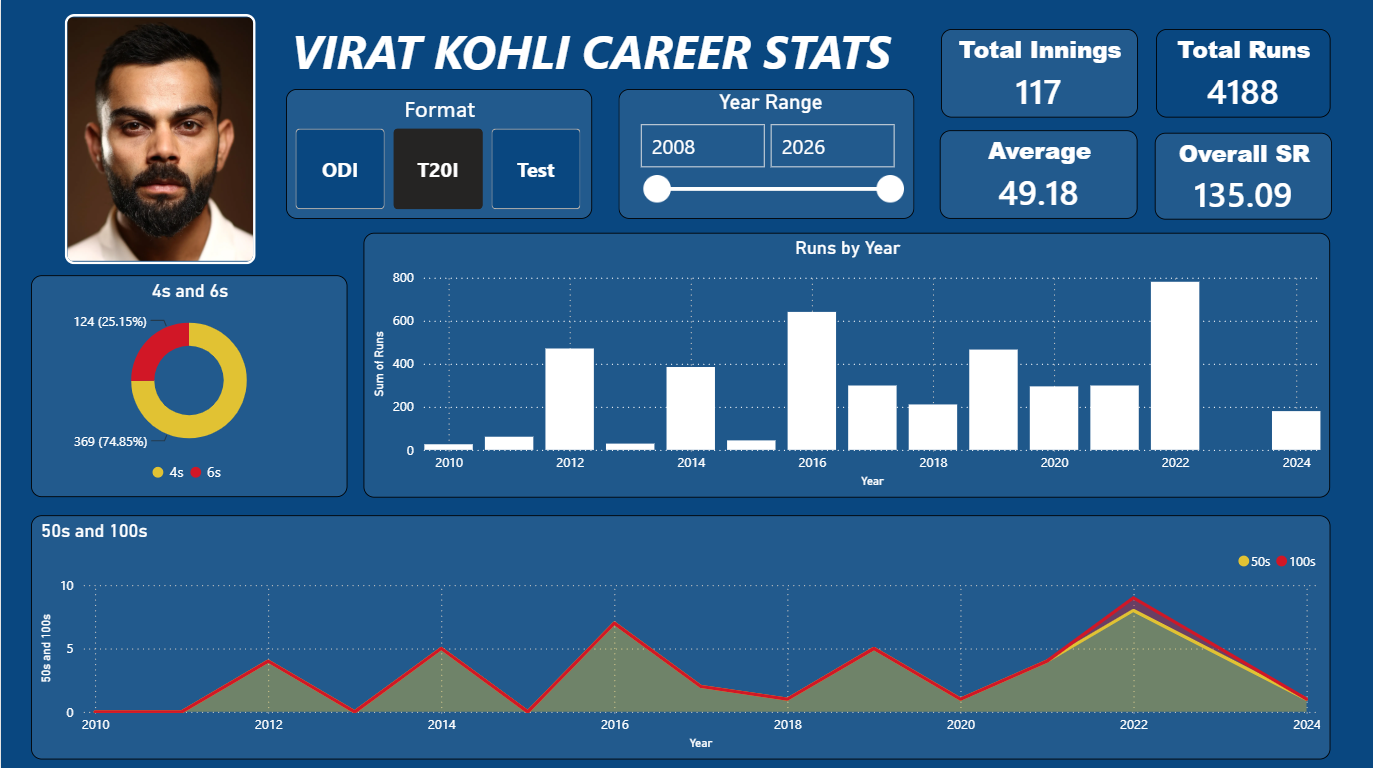

The dashboard page shown, as its layout file describes it:
{"tool":"powerbi","page":{"name":"Page ","canvas":[1280,720],"ordinal":0},"visuals":[{"type":"image","box":[59.1,13.8,177.4,232.4],"z":0},{"type":"cardVisual","title":"Total Innings","fields":{"Data":["Sum(Sheet1.Innings)"]},"box":[874.6,27.5,182.9,82.5],"z":1000},{"type":"textbox","box":[265.4,13.8,599.6,82.5],"z":2000},{"type":"cardVisual","title":"Total Runs","fields":{"Data":["Sum(Sheet1.Runs)"]},"box":[1074.3,27.5,162.3,82.5],"z":3000},{"type":"cardVisual","title":" Average","fields":{"Data":["Avg(Sheet1.Avg)"]},"box":[873.2,122.4,184.3,82.5],"z":4000},{"type":"advancedSlicerVisual","fields":{"Values":["Sheet1.Format"]},"box":[265.4,83.9,284.7,121],"z":5000},{"type":"cardVisual","title":"Overall SR","fields":{"Data":["Avg(Sheet1.SR)"]},"box":[1072.7,124.1,165,81.1],"z":6000},{"type":"clusteredColumnChart","title":"Runs by Year","fields":{"Category":["Sheet1.Year"],"Y":["Sum(Sheet1.Runs)"]},"box":[336.9,217.3,899.4,246.2],"z":7000},{"type":"slicer","title":"Year Range","fields":{"Values":["Sheet1.Year"]},"box":[574.8,83.9,275,121],"z":8000},{"type":"donutChart","title":"4s and 6s","fields":{"Y":["Sum(Sheet1.4s)","Sum(Sheet1.6s)"]},"box":[27.5,257.2,294.3,206.3],"z":9000},{"type":"stackedAreaChart","title":"50s and 100s ","fields":{"Category":["Sheet1.Year"],"Y":["Sum(Sheet1.50)","Sum(Sheet1.100)"]},"box":[27.5,479.9,1208.8,226.9],"z":10000}]}

Visuals, with their boxes in screenshot pixels (x1, y1, x2, y2), scaled from the page's 1280x720 canvas onto the 1373x768 screenshot:
image: 63, 15, 254, 263
"Total Innings" cardVisual: 938, 29, 1134, 117
textbox: 285, 15, 928, 103
"Total Runs" cardVisual: 1152, 29, 1326, 117
" Average" cardVisual: 937, 131, 1134, 219
advancedSlicerVisual - Sheet1.Format: 285, 89, 590, 219
"Overall SR" cardVisual: 1151, 132, 1328, 219
"Runs by Year" clusteredColumnChart: 361, 232, 1326, 494
"Year Range" slicer: 617, 89, 912, 219
"4s and 6s" donutChart: 29, 274, 345, 494
"50s and 100s " stackedAreaChart: 29, 512, 1326, 754
